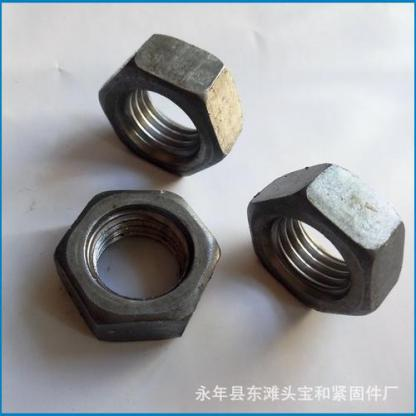FOD: (49, 185, 226, 345), (244, 160, 408, 320), (95, 30, 245, 180)
